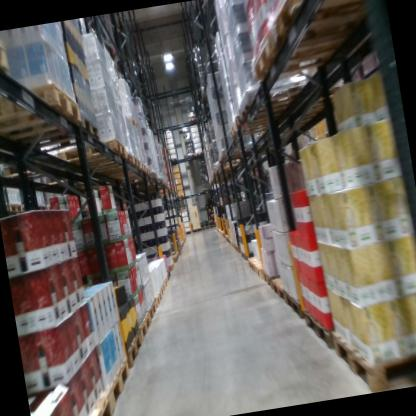pallet: (248, 16, 380, 87), (331, 308, 416, 393), (0, 73, 81, 145), (262, 0, 375, 51), (13, 106, 105, 162), (53, 131, 130, 179), (232, 91, 315, 129), (237, 81, 314, 118), (223, 112, 288, 147), (113, 329, 149, 384), (102, 357, 136, 413), (301, 309, 336, 353), (80, 145, 135, 172), (96, 150, 142, 179), (72, 387, 115, 416), (0, 30, 17, 81), (216, 148, 255, 169), (115, 165, 153, 186), (283, 286, 304, 321), (112, 160, 148, 180), (261, 266, 286, 290), (142, 296, 160, 327), (246, 253, 270, 276), (270, 275, 288, 305), (137, 309, 153, 342), (239, 246, 262, 264), (4, 196, 23, 214), (253, 262, 268, 280), (153, 288, 164, 311), (161, 260, 176, 276), (158, 277, 169, 294), (126, 114, 137, 129), (163, 269, 172, 287), (147, 169, 160, 181), (158, 282, 166, 297), (201, 184, 211, 193), (175, 193, 186, 200), (200, 223, 210, 230), (192, 225, 202, 232), (208, 223, 217, 230), (194, 150, 203, 157), (188, 115, 197, 122), (187, 151, 195, 158), (170, 156, 178, 163)
